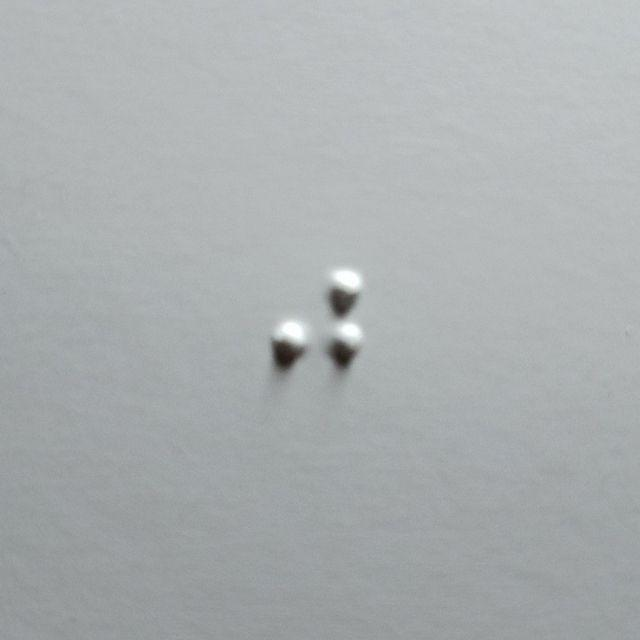j: (271, 266, 363, 416)
